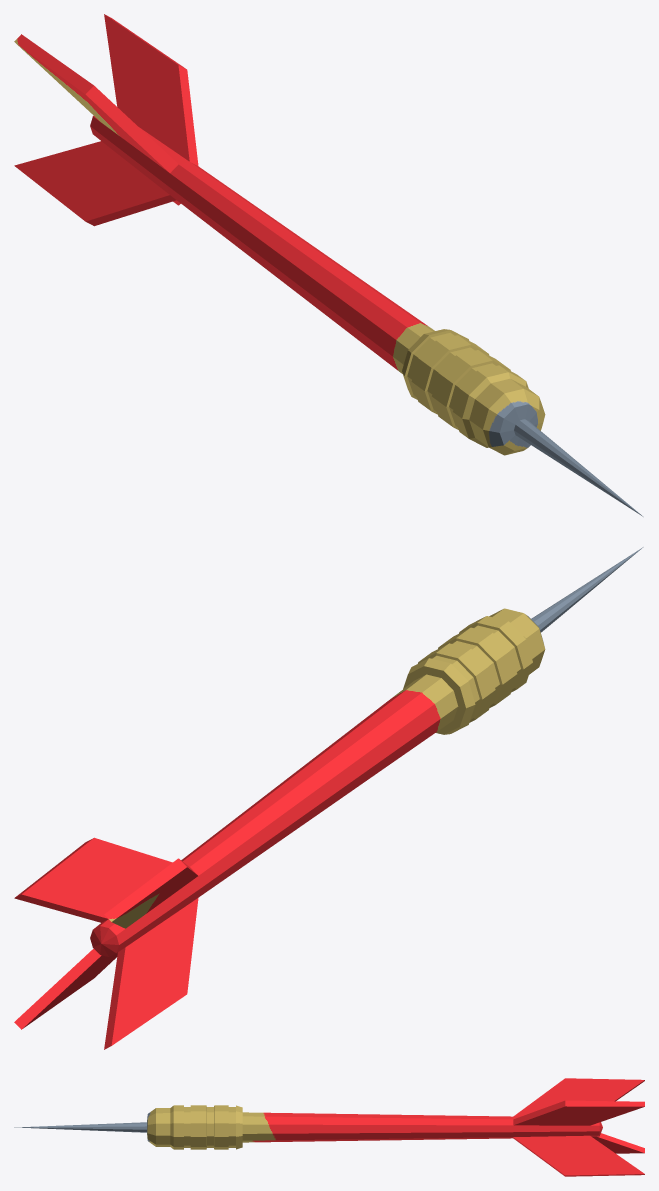
The model's file is Geo_Red_Dart.fbx.
The picture shows the model from 3 angles, top to bottom: view 1: azimuth 30°, elevation 25°; view 2: azimuth 150°, elevation 25°; view 3: azimuth 270°, elevation 25°; orthographic projection. The views are drawn at different scales.
Parts seen in each view (by area): view 1: Geo_Dart; view 2: Geo_Dart; view 3: Geo_Dart.
Boxes of the visible parts, left/top/right/bottom form: Geo_Dart: left=14, top=14, right=643, bottom=516; Geo_Dart: left=14, top=547, right=643, bottom=1049; Geo_Dart: left=14, top=1078, right=644, bottom=1176.
Bounding box in the file's own units: 43.07 × 56.86 × 427.
Materials: 1 (1 with a texture image).
